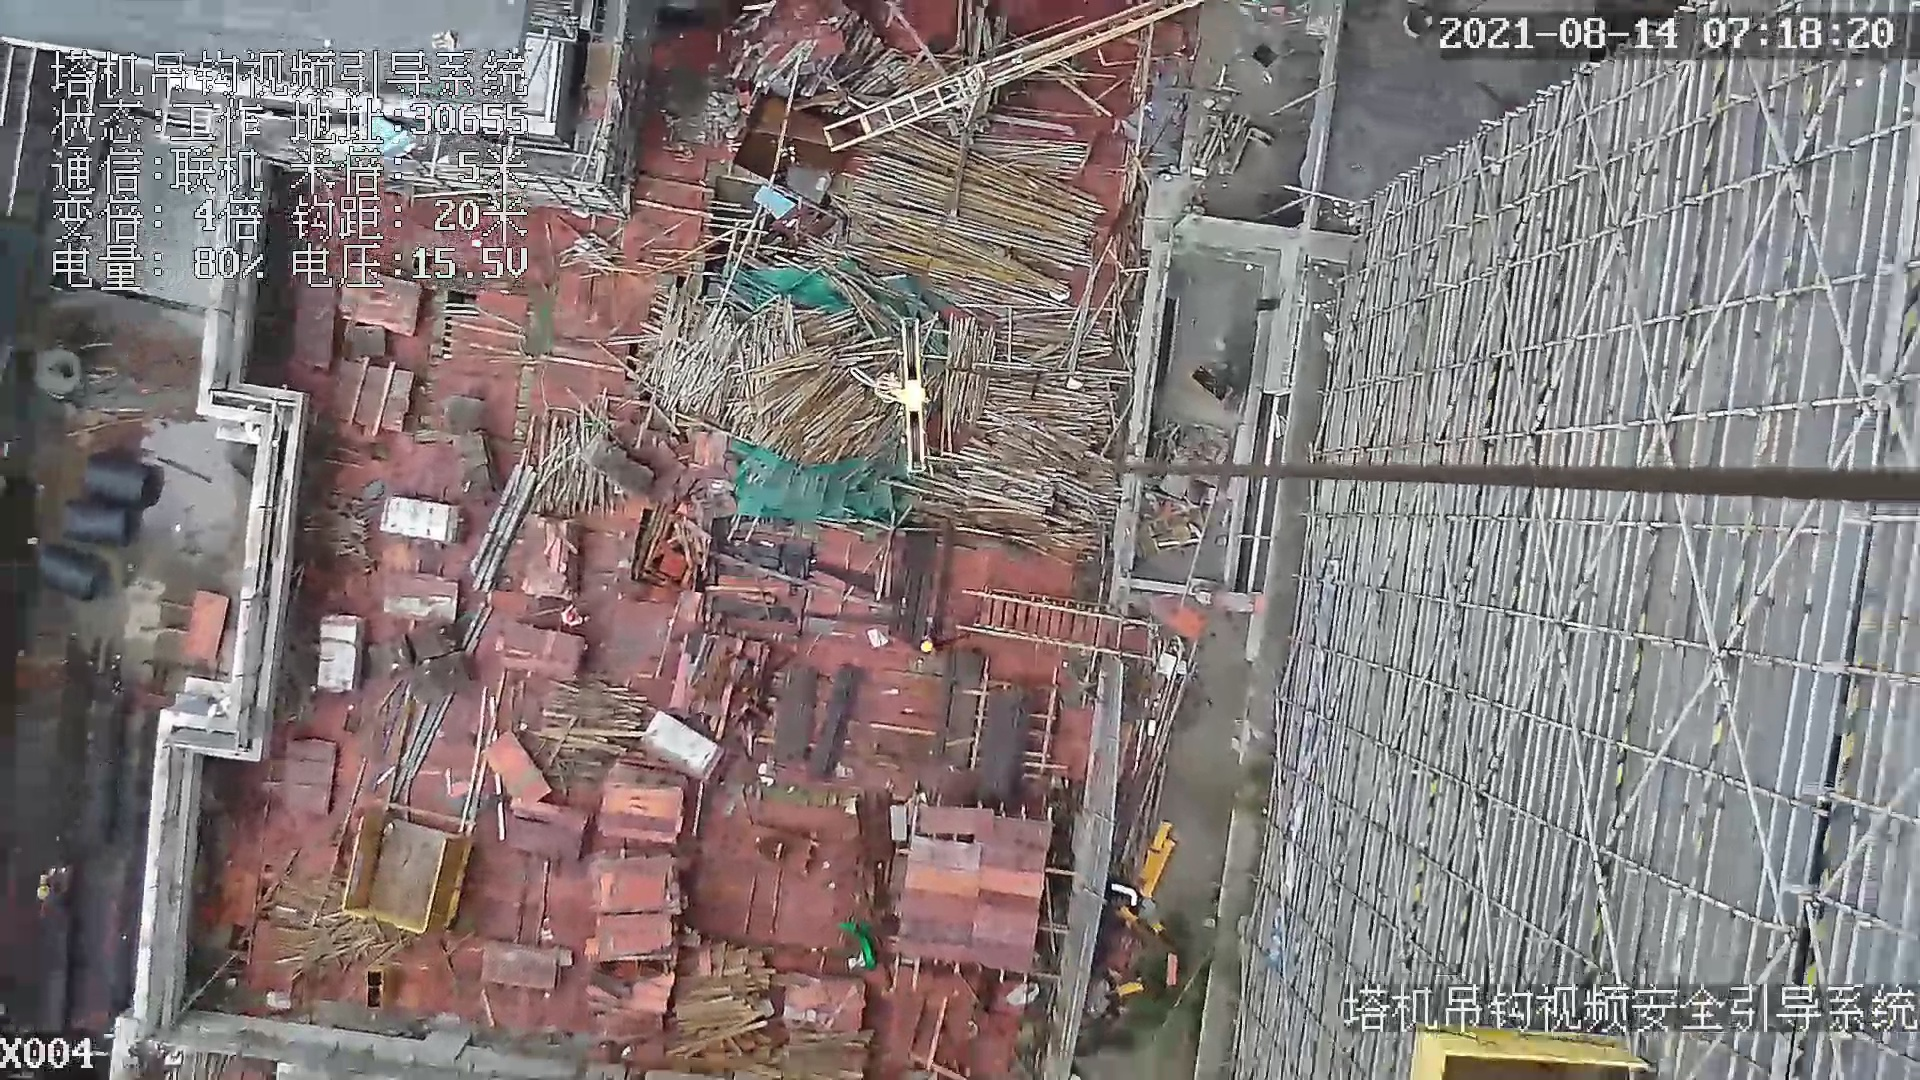hook: (877, 315, 932, 472)
